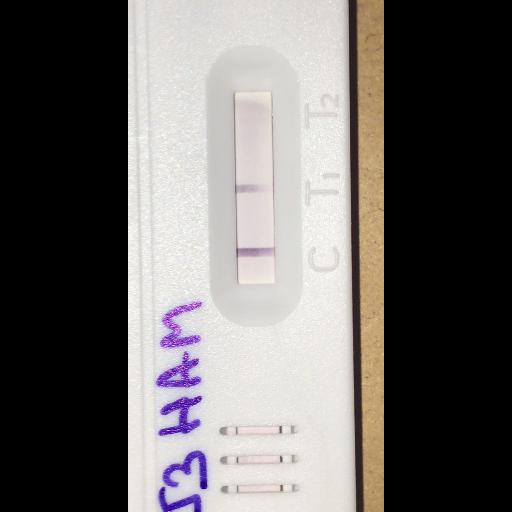Pos: (128, 0, 355, 511)
